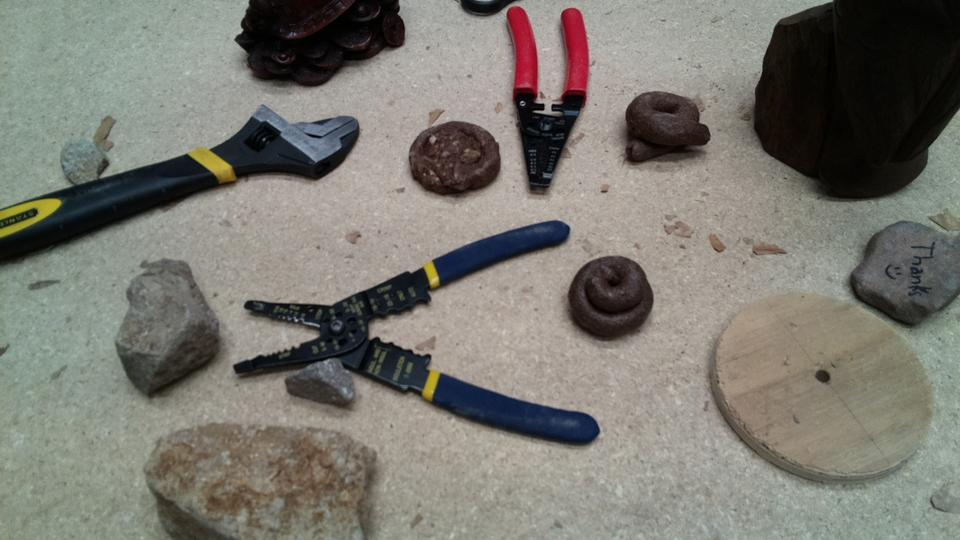poop: (406, 119, 505, 199), (566, 253, 656, 341), (622, 90, 714, 166)
